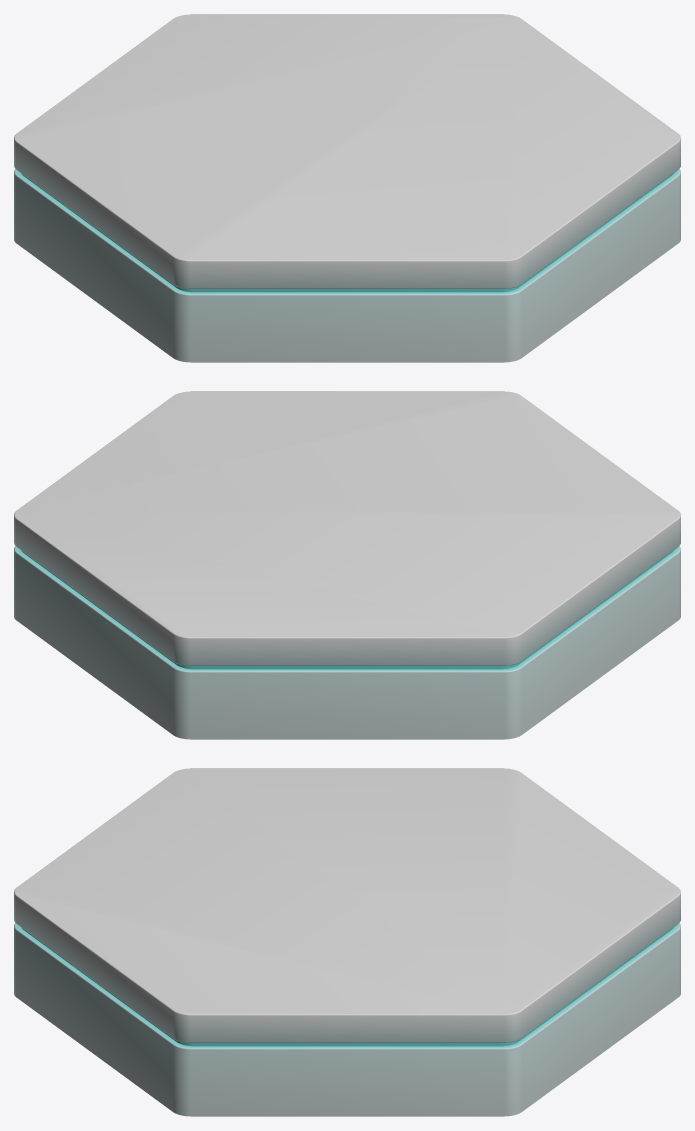
The model's file is SpatialStarterPlatform.fbx.
The picture shows the model from 3 angles, top to bottom: view 1: azimuth 30°, elevation 25°; view 2: azimuth 150°, elevation 25°; view 3: azimuth 270°, elevation 25°; orthographic projection.
Visible parts, largest first — view 1: Platform; view 2: Platform; view 3: Platform.
Boxes of the visible parts, x1=… form: Platform: x1=14, y1=14, x2=680, y2=362; Platform: x1=14, y1=391, x2=680, y2=739; Platform: x1=14, y1=768, x2=680, y2=1116.
Bounding box in the file's own units: 520 × 100 × 594.
